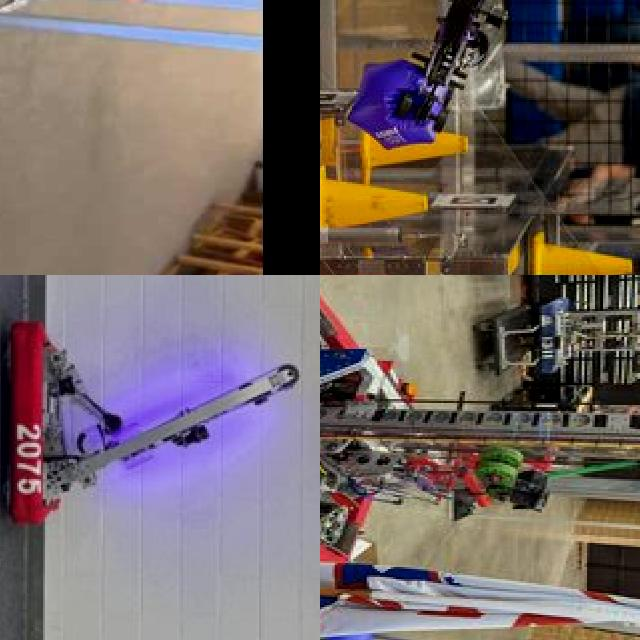FRC-Robots: (320, 280, 640, 576), (0, 309, 319, 536), (320, 0, 612, 156), (0, 0, 285, 97)
